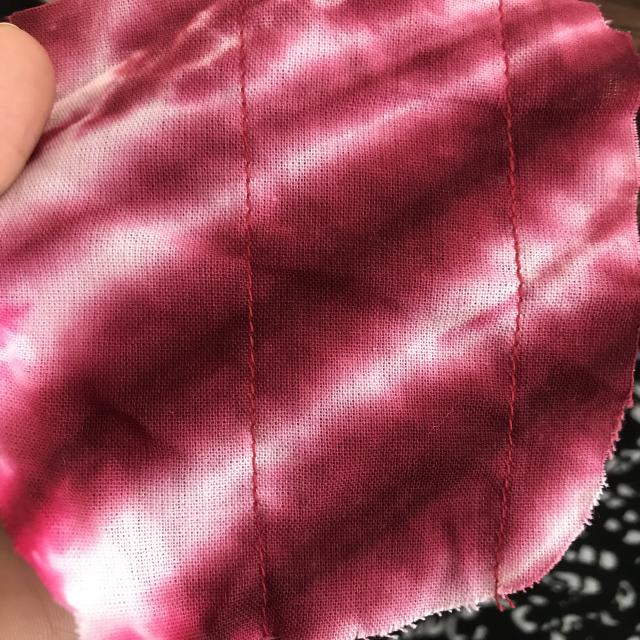good: (201, 300, 290, 415), (500, 124, 536, 223)
